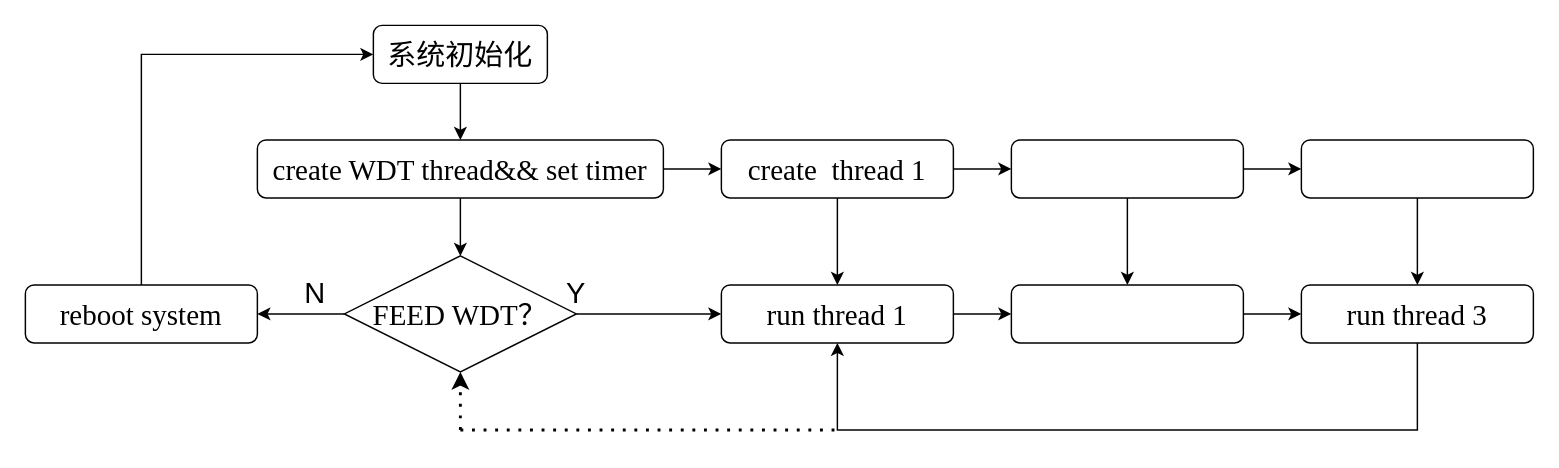
This 1559x468 diagram has some shape labels left out. The centre of each missing label's shape, as x and y in pixels:
"create thread 2" belongs at (1126,168).
"create thread 3" belongs at (1416,168).
"run thread 2" belongs at (1126,313).
